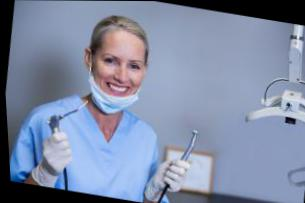WRONG: (87, 40, 150, 111)
